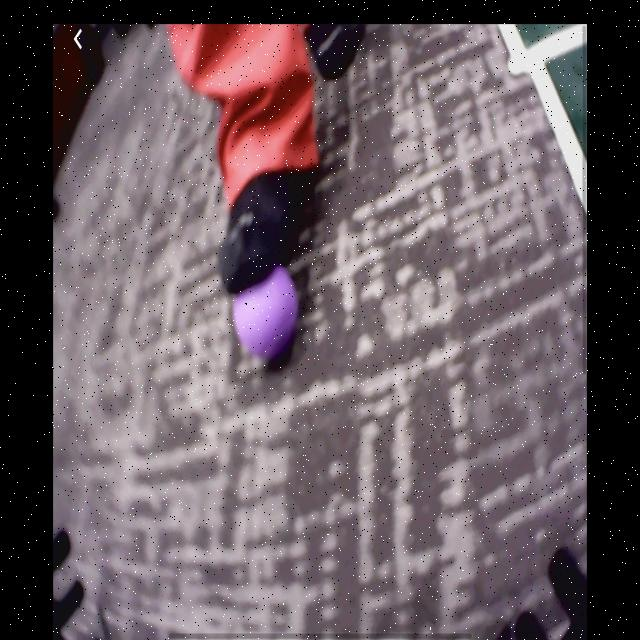ball: (234, 262, 297, 356)
